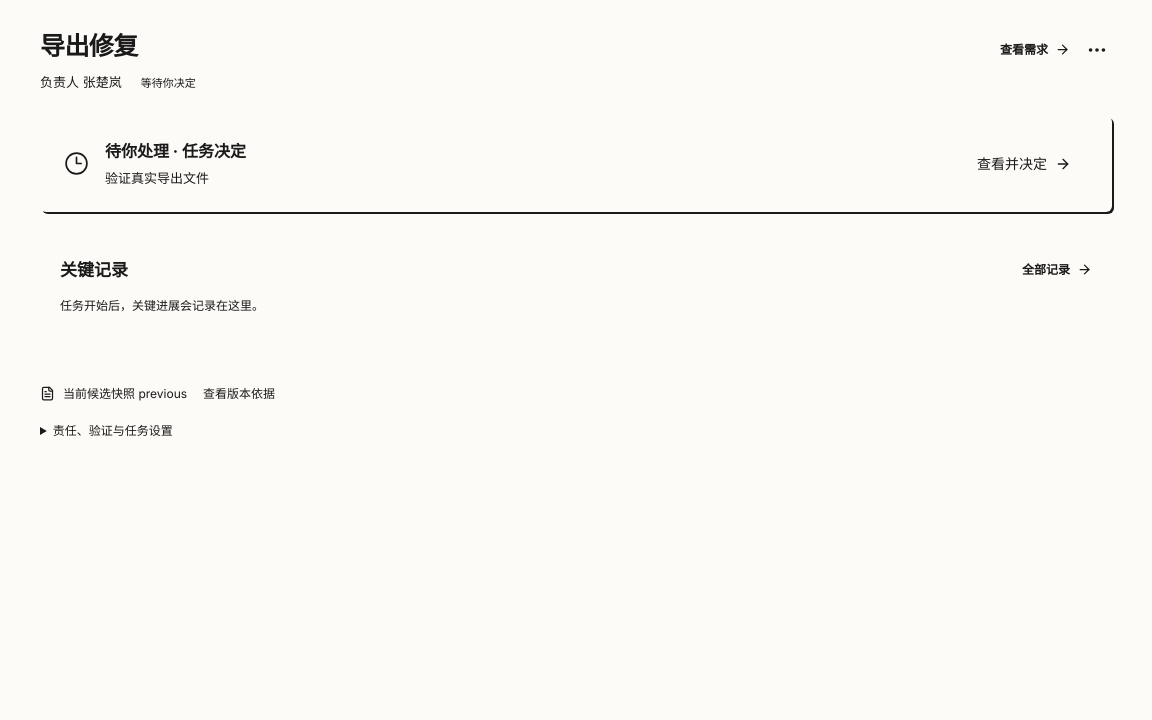
自主工作体验 › 新的方向决定不要求沿用上次交付的候选快照
Click the button "查看并决定": (1024, 164) [960,142,1088,185]
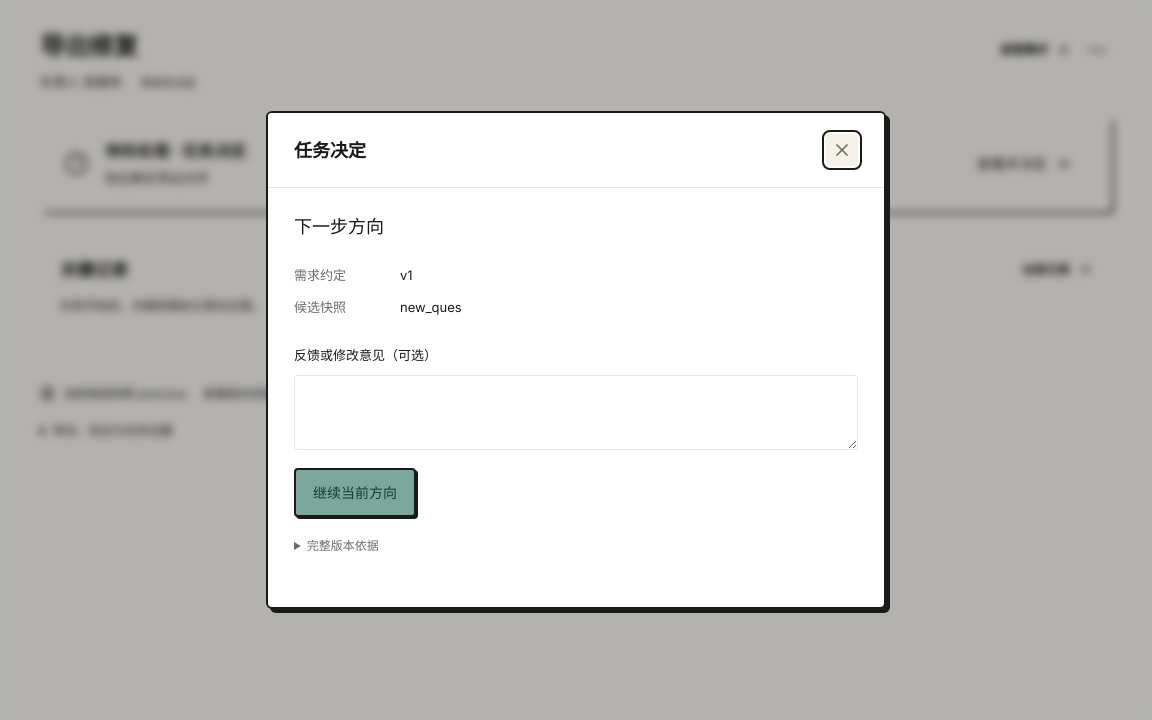
expect the button "继续当前方向" is enabled: met, box [294,468,416,517]
